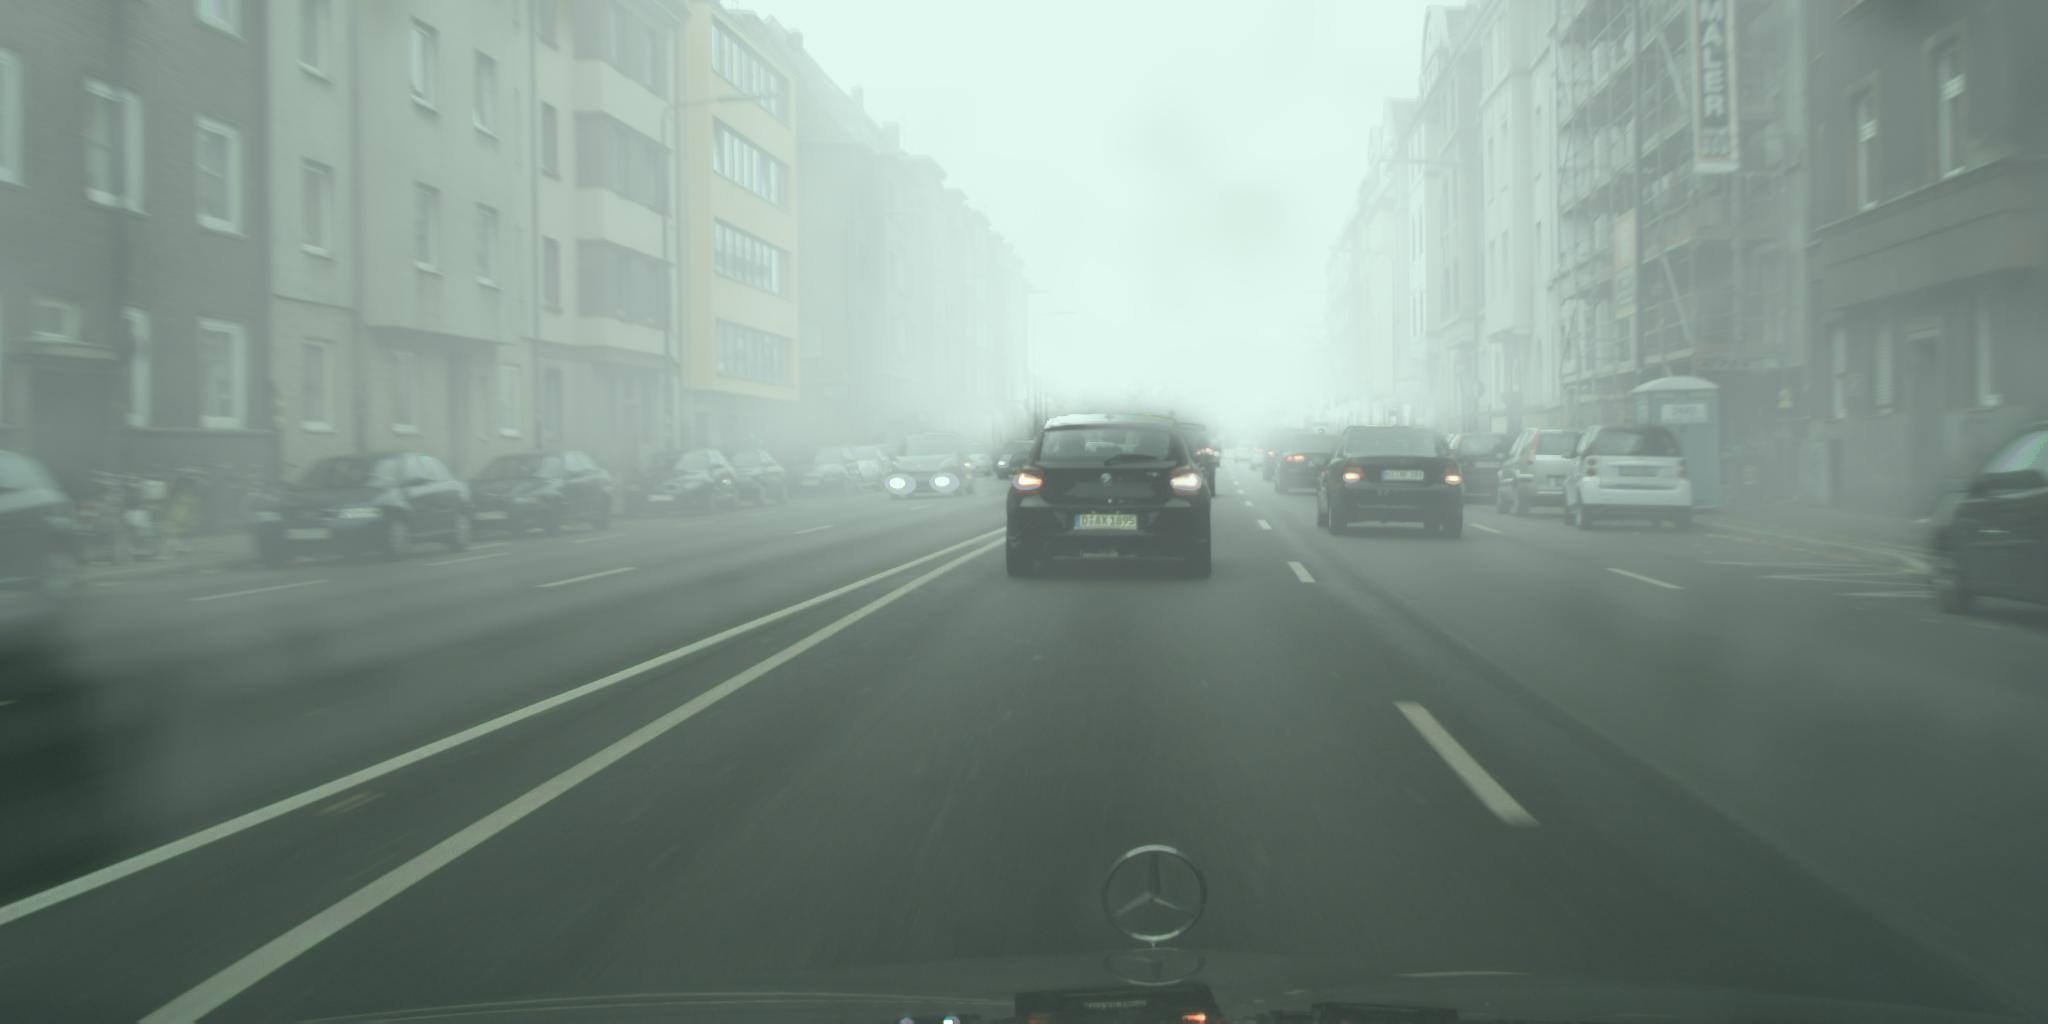car: (1004, 413, 1213, 581), (255, 451, 477, 572), (1927, 421, 2048, 616), (1313, 426, 1467, 541), (1562, 422, 1695, 534), (465, 448, 616, 541), (1, 448, 84, 610), (1496, 428, 1600, 519), (626, 448, 744, 521), (887, 432, 976, 502), (1437, 431, 1518, 505), (708, 448, 792, 509), (782, 444, 865, 502), (1276, 435, 1351, 496), (1173, 423, 1219, 500), (867, 413, 934, 465), (1262, 428, 1317, 482), (1250, 438, 1273, 472), (1234, 441, 1259, 465)
